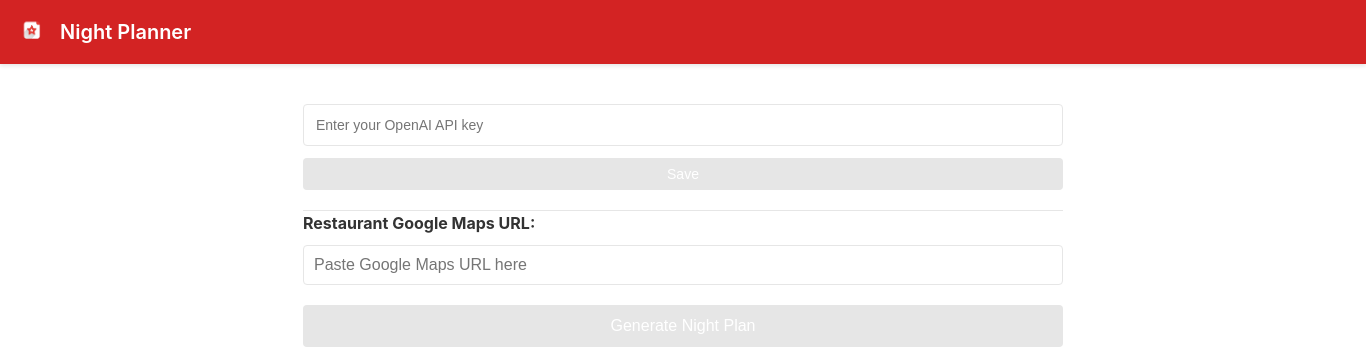
it: App Component › enables Save button when API key is entered
The width and height of the screenshot is (1366, 364).
Type "test-key" into the password field with placeholder "Enter your OpenAI API key" at (683, 125), box [303,104,1063,146]
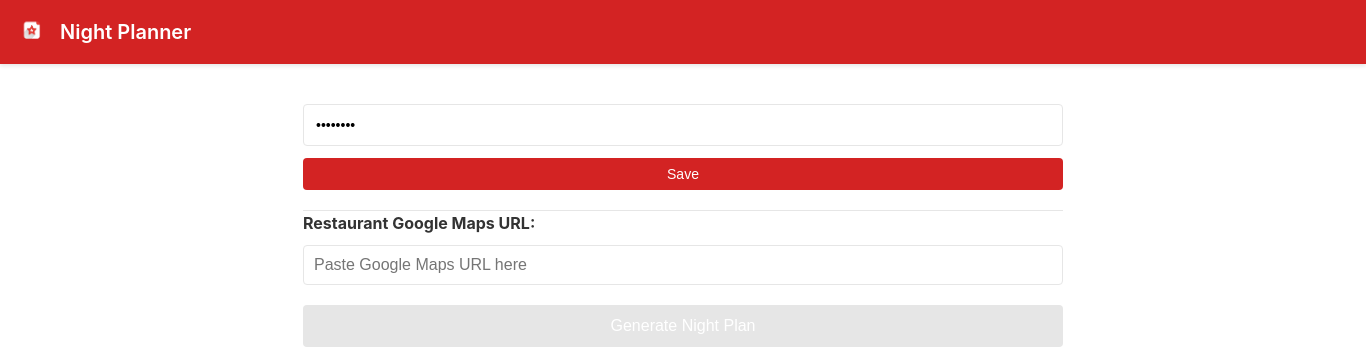
Result: the button "Save" is enabled at [303,158,1063,190]
